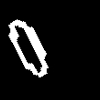chain: (9, 20, 47, 76)
